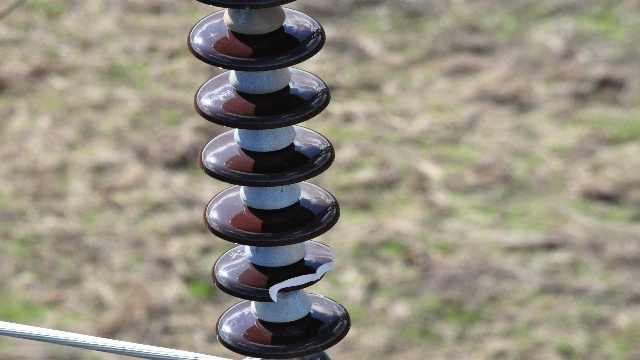broken_local: (267, 251, 337, 302)
insulator_unspecified: (188, 0, 355, 359)
